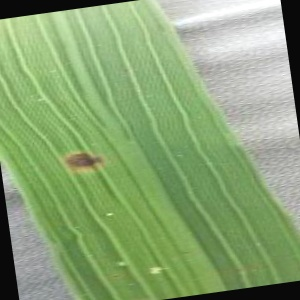Bacterial_Leaf_Blight: (58, 143, 110, 178)
